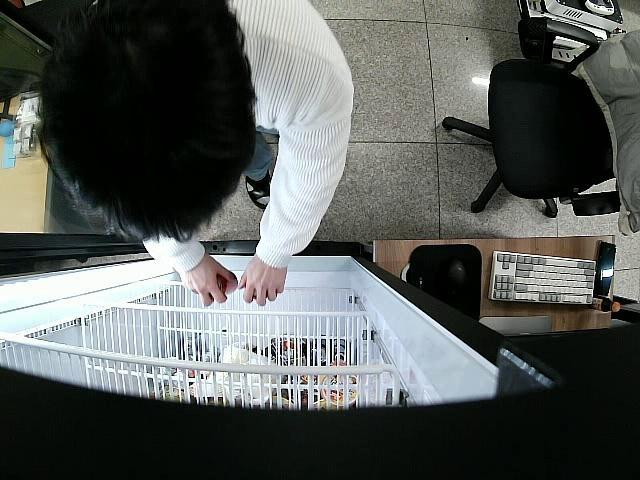11_cocaColaZero: (212, 268, 238, 296)
